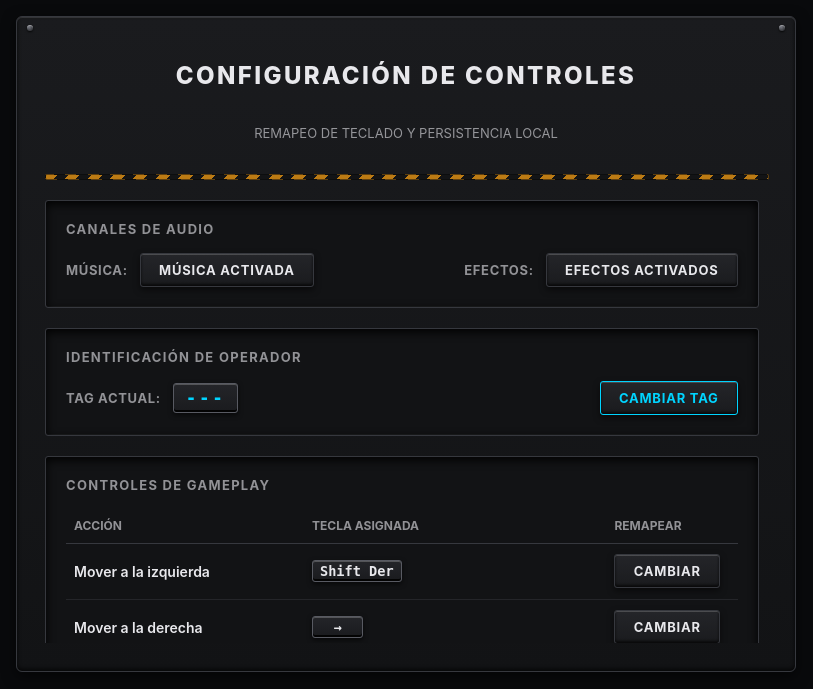
Test case: SettingsScreen.vue — Interfaz y captura de controles › muestra un mensaje de error y no guarda estado cuando se intenta asignar una tecla duplicada
This screenshot has width=813, height=689.
Click the button with test id "change-btn-moveLeft" at (667, 571), box [614,554,720,588]
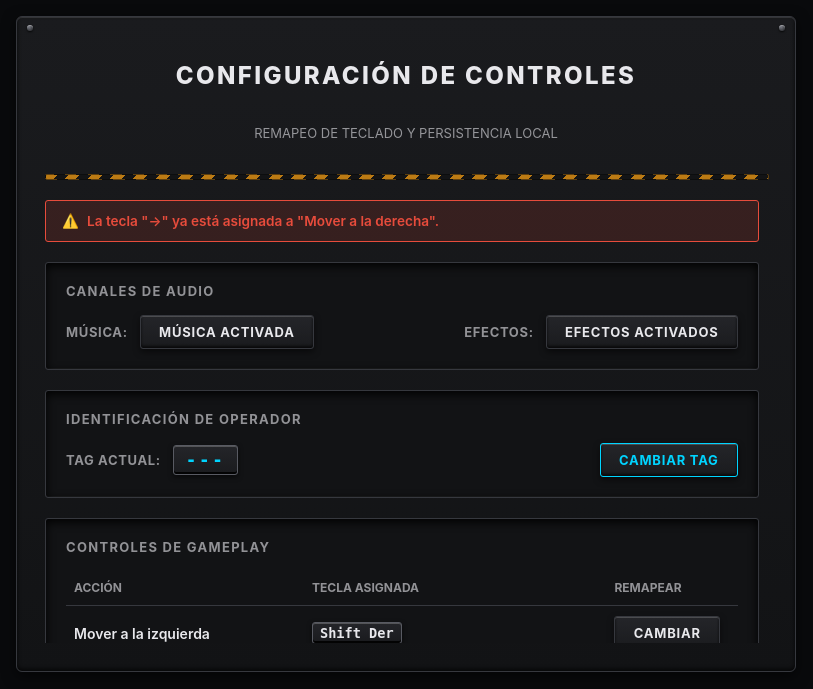
Expected: the message "⚠️ La tecla \"→\" ya está asignada a \"Mover a la derecha\"." is shown, [45,200,759,242]
Expected: the message with test id "settings-error-banner" shows "ya está asignada", [87,212,439,228]
